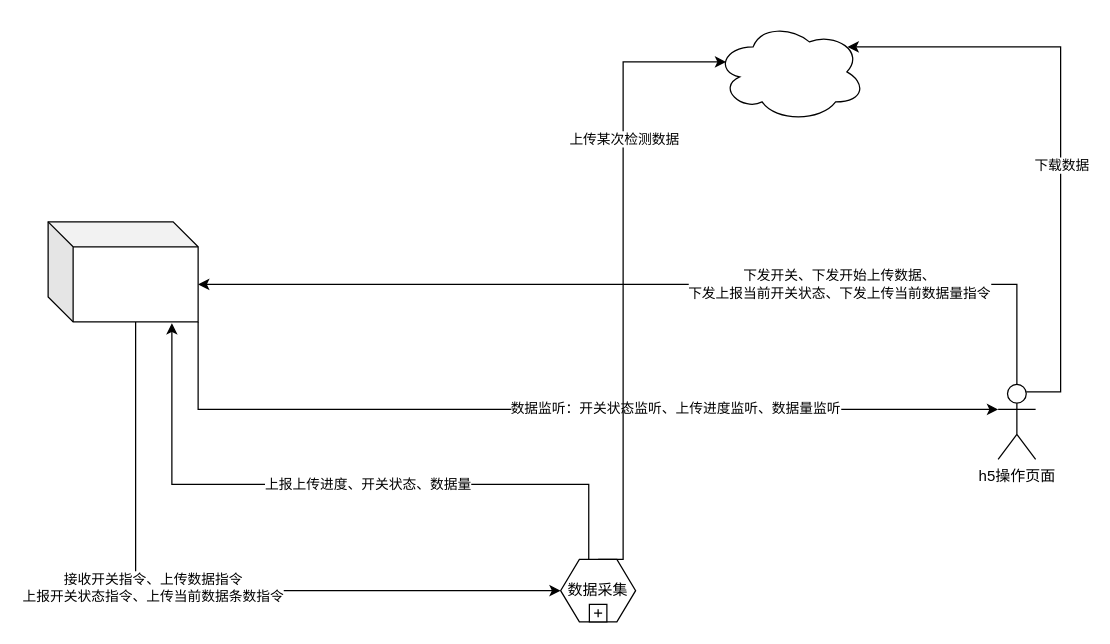
Image size: 1110x644. Some labels were removed from this diagram. Here are the shapes that lost their labels. From the top down, the box of each, then its label:
(714, 21, 866, 122): java api
(47, 221, 198, 322): mqtt
